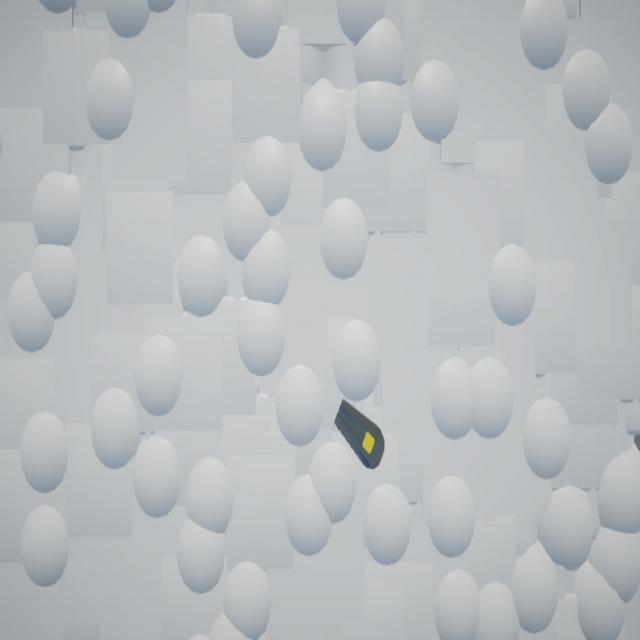handle_folk: (335, 399, 386, 470)
